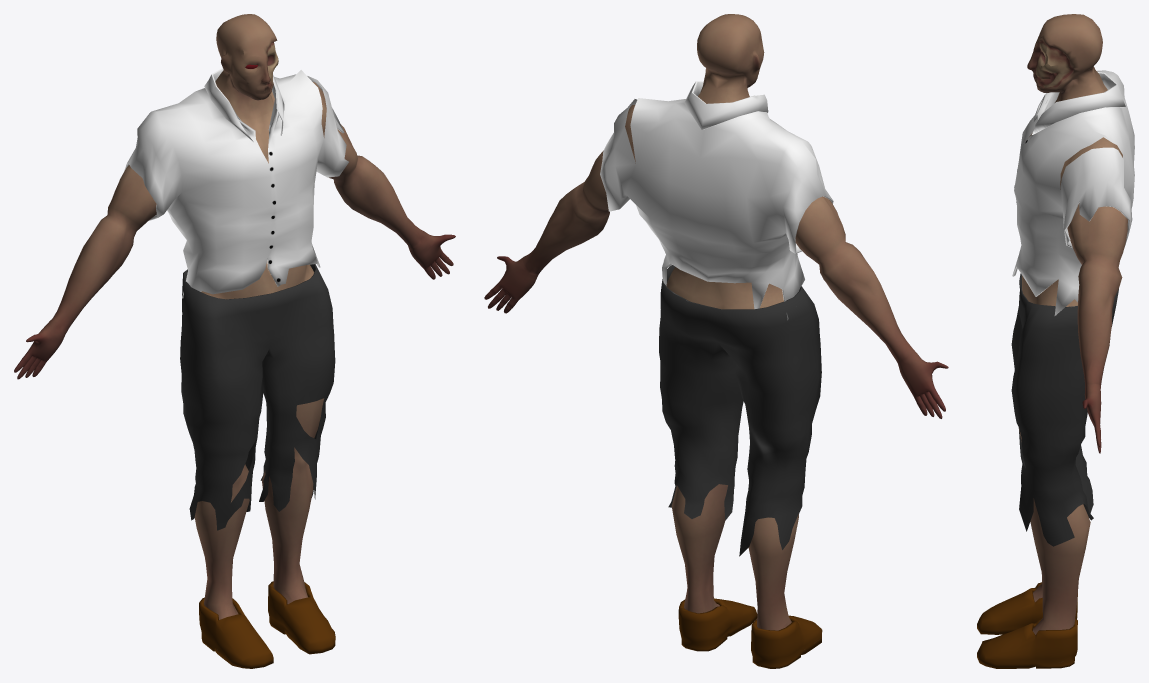
Rendered from Pawn_Model.fbx.
3 renders of one model, left to right at view 1: azimuth 30°, elevation 25°; view 2: azimuth 150°, elevation 25°; view 3: azimuth 270°, elevation 25°, orthographic. The views are drawn at different scales.
Parts seen in each view (by area): view 1: LowResPawnClothes, LowRes; view 2: LowResPawnClothes, LowRes; view 3: LowResPawnClothes, LowRes.
Boxes of the visible parts, x1,y1,x2,y2 form: LowResPawnClothes: [124, 68, 348, 668]; LowRes: [14, 14, 455, 619]; LowResPawnClothes: [600, 81, 833, 668]; LowRes: [484, 14, 948, 630]; LowResPawnClothes: [977, 70, 1134, 668]; LowRes: [1018, 14, 1127, 634].
Size of the model in its own units: 314 by 415 by 94.9.
